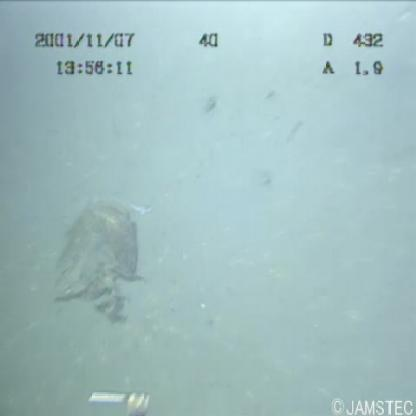Rov: (85, 386, 151, 415)
Rác: (59, 190, 148, 330)
